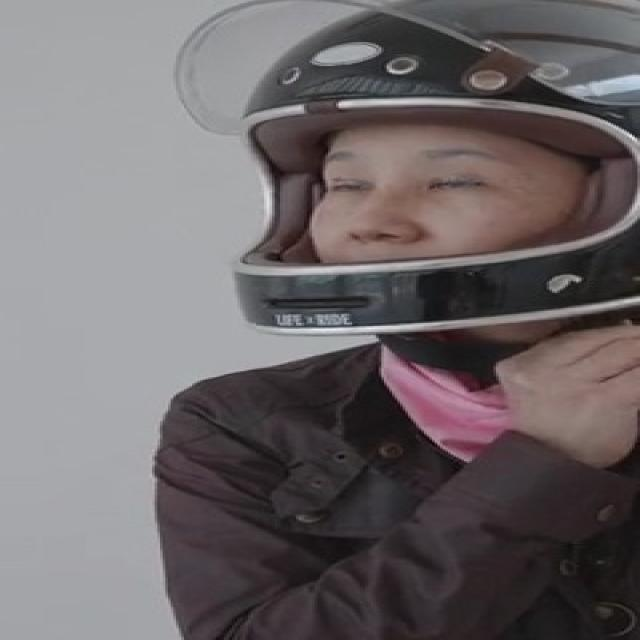Helmet_Wearer: (152, 3, 640, 326)
Person: (151, 0, 640, 640)
